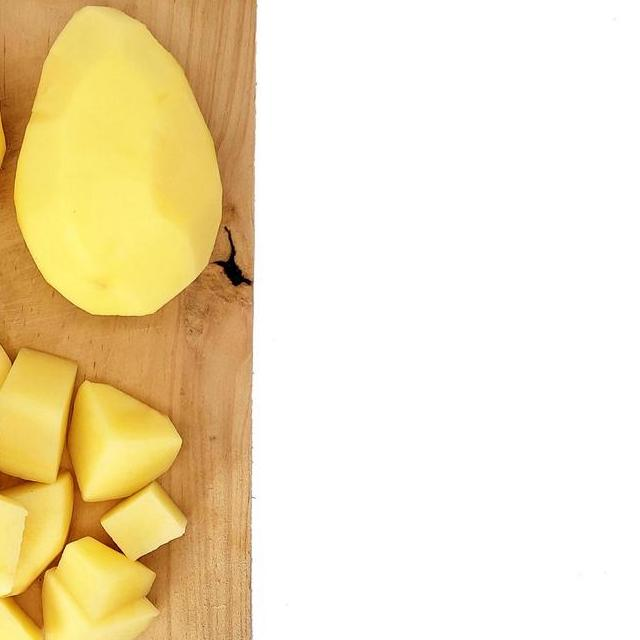potato: (0, 345, 182, 640)
